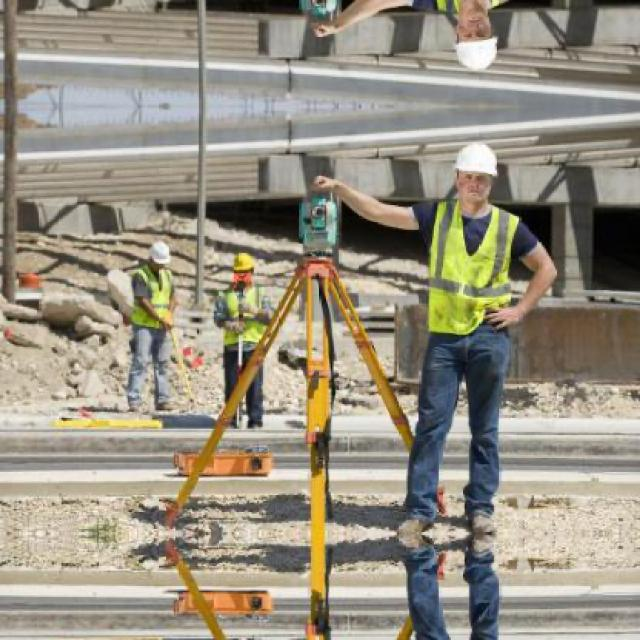helmet: (449, 0, 503, 79), (451, 136, 503, 214), (147, 239, 176, 273), (232, 248, 255, 286)
